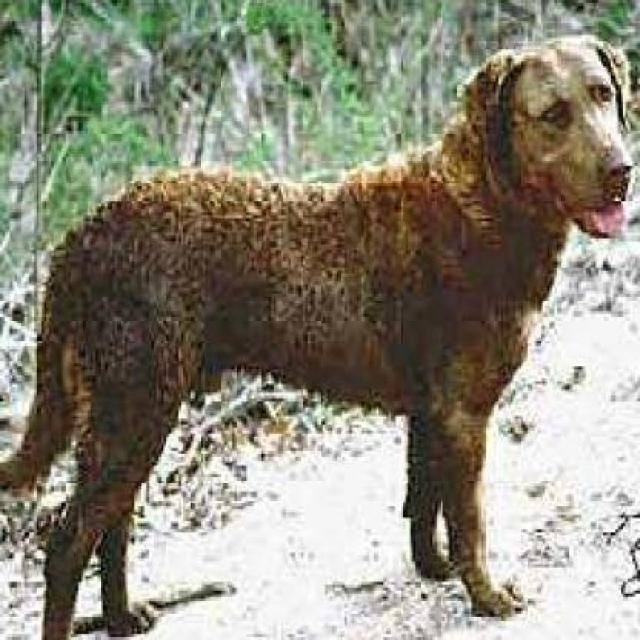Dog: (0, 26, 638, 638)
